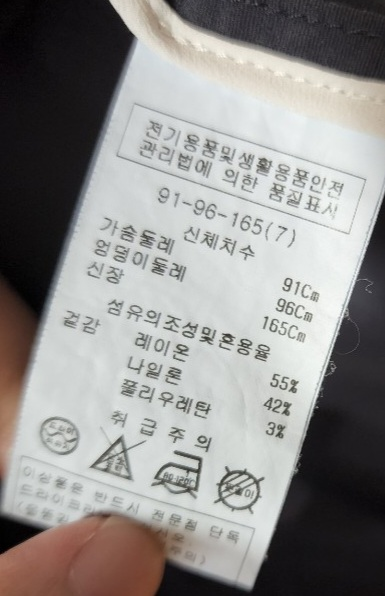KR_dry_clean_petroleum: (38, 414, 83, 458)
KR_hang_dry_in_shade: (213, 466, 264, 511)
KR_iron_low_temp_with_cloth: (151, 449, 204, 501)
KR_no_chlorine_bleach: (88, 429, 139, 481)
